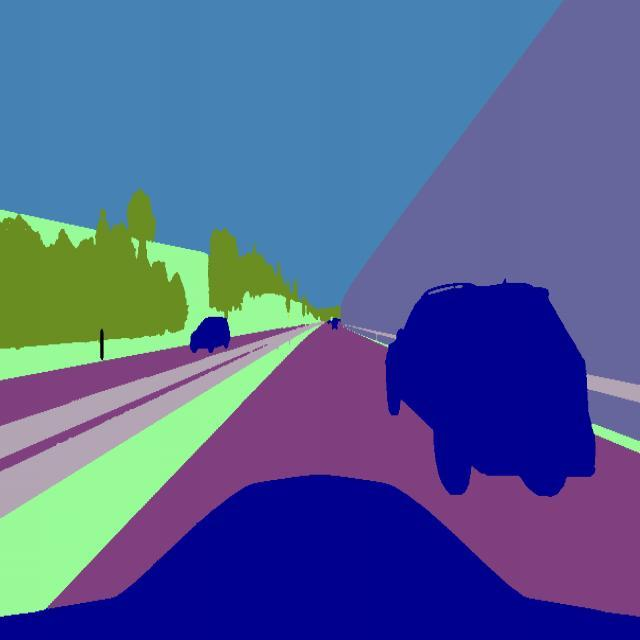safe: (188, 312, 235, 356), (330, 317, 338, 335)
unsafe: (384, 281, 598, 504)
